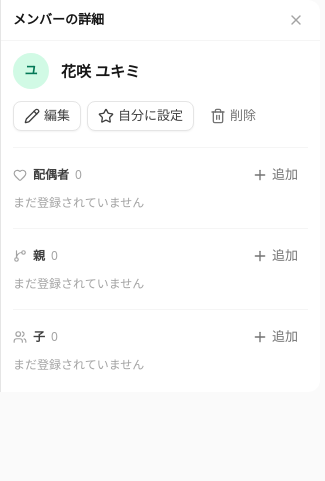
MemberDetailPanel › 関係の追加フォームも、人が切り替わったら閉じる
開いたままだと、前の人向けに選んだ相手が新しい人の関係として登録される
What coordinates should you click on to do the following:
click the button "追加" in the row of "配偶者"
I would click on:
 (275, 175)
Its box is [242, 160, 308, 190].
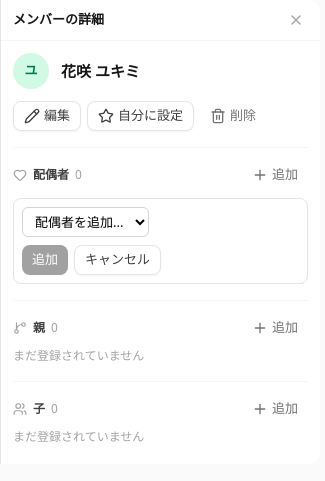
Expected: the dropdown named "配偶者を追加" is shown, [22, 207, 149, 237]
